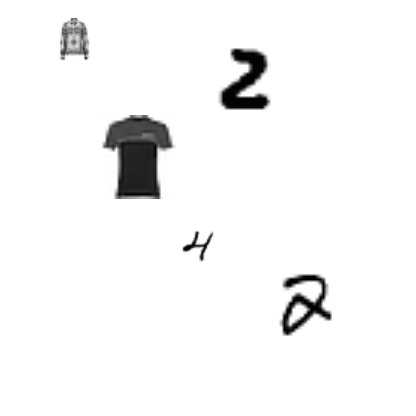2: (262, 260, 346, 344), (204, 40, 288, 124)
4: (177, 224, 219, 266)
Shirt: (53, 18, 95, 60)
T-shirt/top: (97, 115, 181, 199)
